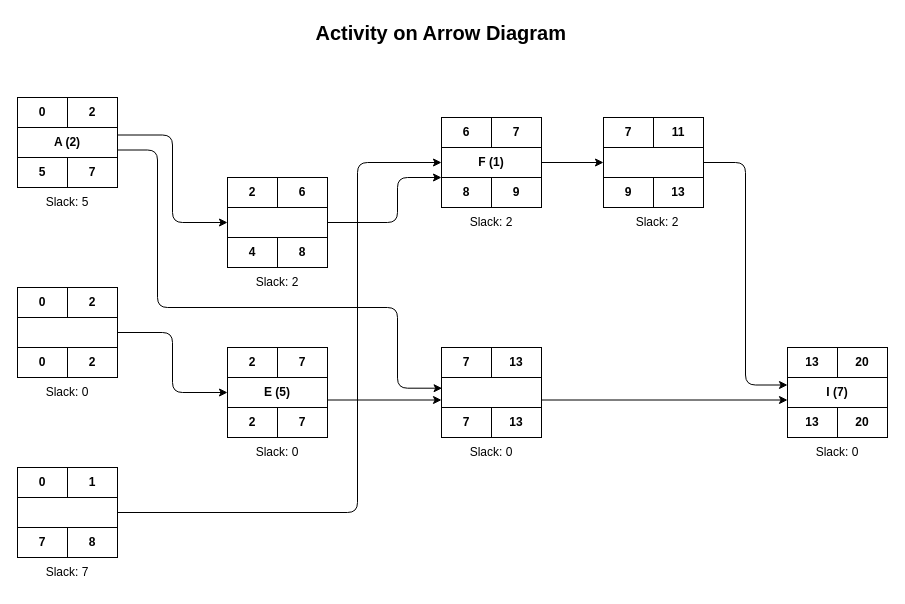
The diagram is 905 pixels wide and 604 high, and some of its shapes have lost their labels. The shapes that lost their labels are listed below. From the top down, each one's centre as x and y in pixels, then its label:
At pixel 653 162: "H (4)".
At pixel 277 222: "D (4)".
At pixel 67 332: "B (2)".
At pixel 491 392: "G (6)".
At pixel 67 512: "C (1)".
